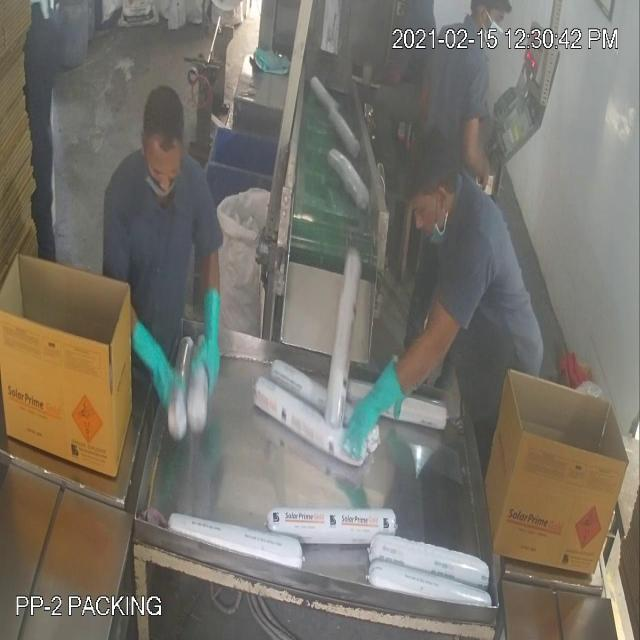gloves: (334, 348, 414, 464), (114, 305, 184, 426), (185, 274, 232, 407)
no-gloves: (459, 98, 497, 197)
